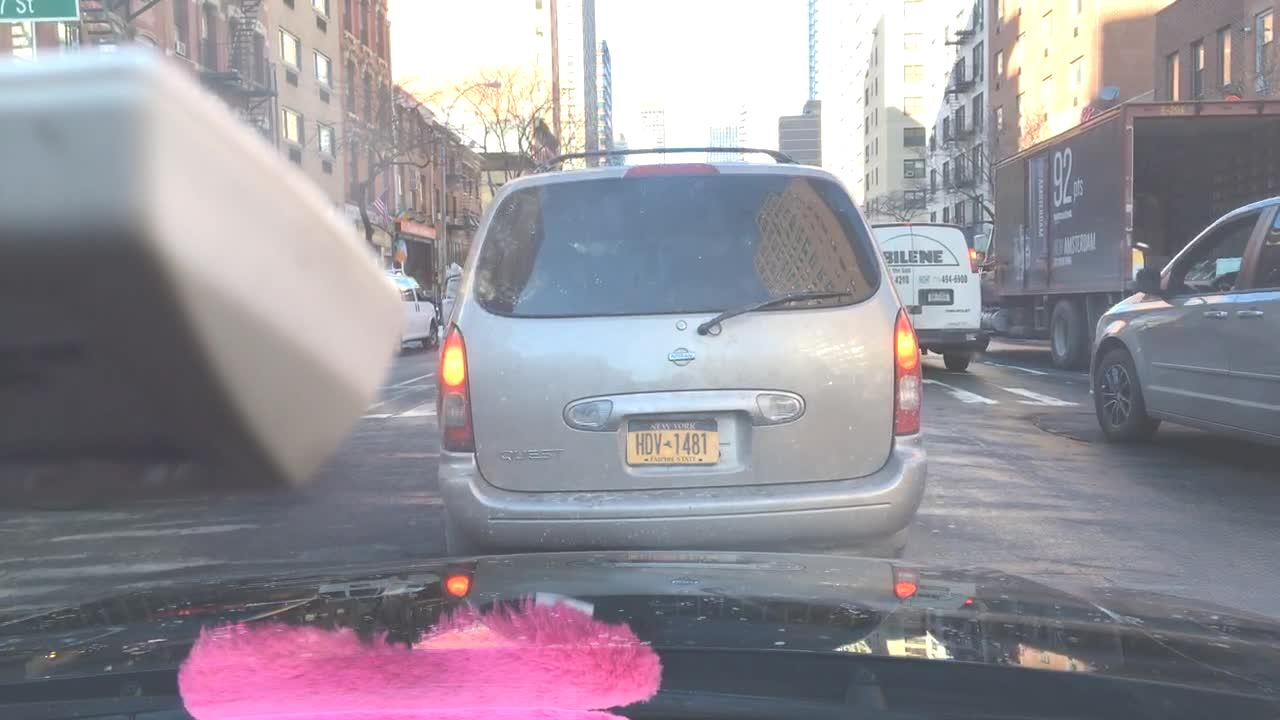Nissan: (659, 339, 708, 376)
